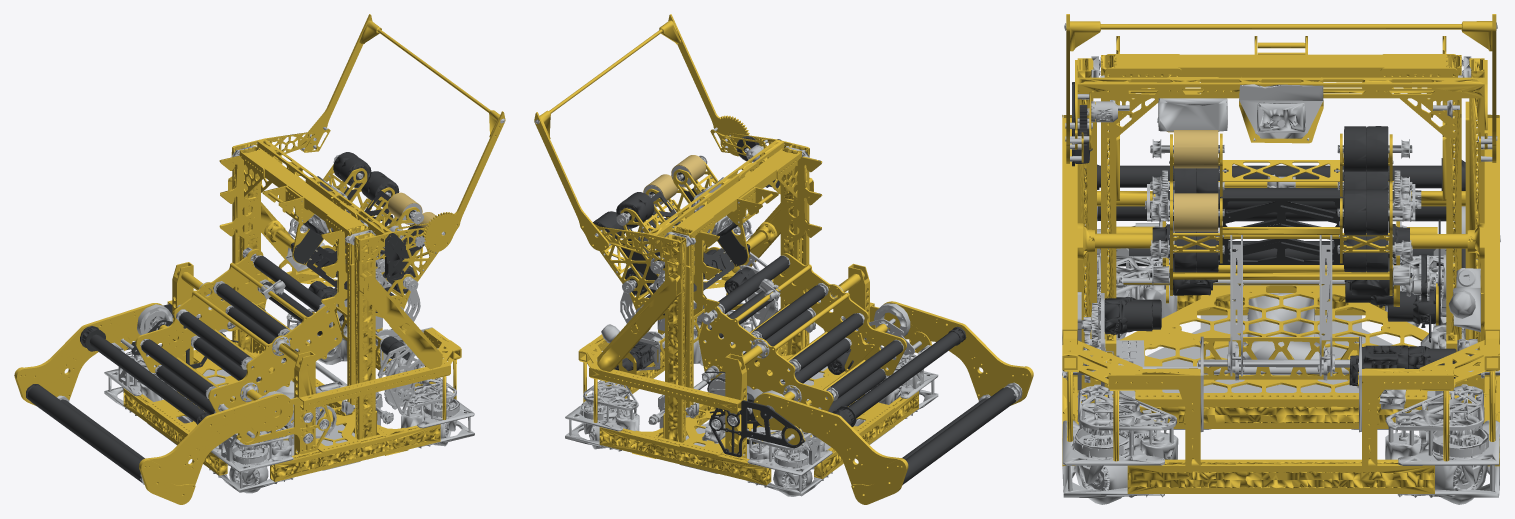
Rendered from gold-rush-27.glb.
The picture shows the model from 3 angles, left to right: view 1: azimuth 30°, elevation 25°; view 2: azimuth 150°, elevation 25°; view 3: azimuth 270°, elevation 25°; orthographic projection. The views are drawn at different scales.
Parts seen in each view (by area): view 1: frame, shooter, intake, climber, amp, amp-base; view 2: frame, shooter, intake, climber, amp, amp-base; view 3: frame, shooter, climber, intake, amp, amp-base.
Boxes of the visible parts, x1,y1,x2,y2 form: frame: (14, 139, 474, 504); shooter: (288, 152, 438, 317); intake: (111, 262, 336, 461); climber: (219, 146, 368, 412); amp: (300, 14, 505, 252); amp-base: (231, 131, 441, 263); frame: (565, 139, 1033, 504); shooter: (593, 155, 752, 320); intake: (707, 263, 931, 464); climber: (672, 147, 822, 415); amp: (534, 14, 767, 250); amp-base: (597, 132, 809, 265); frame: (1062, 54, 1499, 504); shooter: (1145, 126, 1417, 295); climber: (1093, 36, 1469, 344); intake: (1085, 191, 1500, 342); amp: (1064, 14, 1497, 163); amp-base: (1065, 60, 1487, 149).
Bounding box in the file's own units: 1.11 × 0.9605 × 0.7245.
